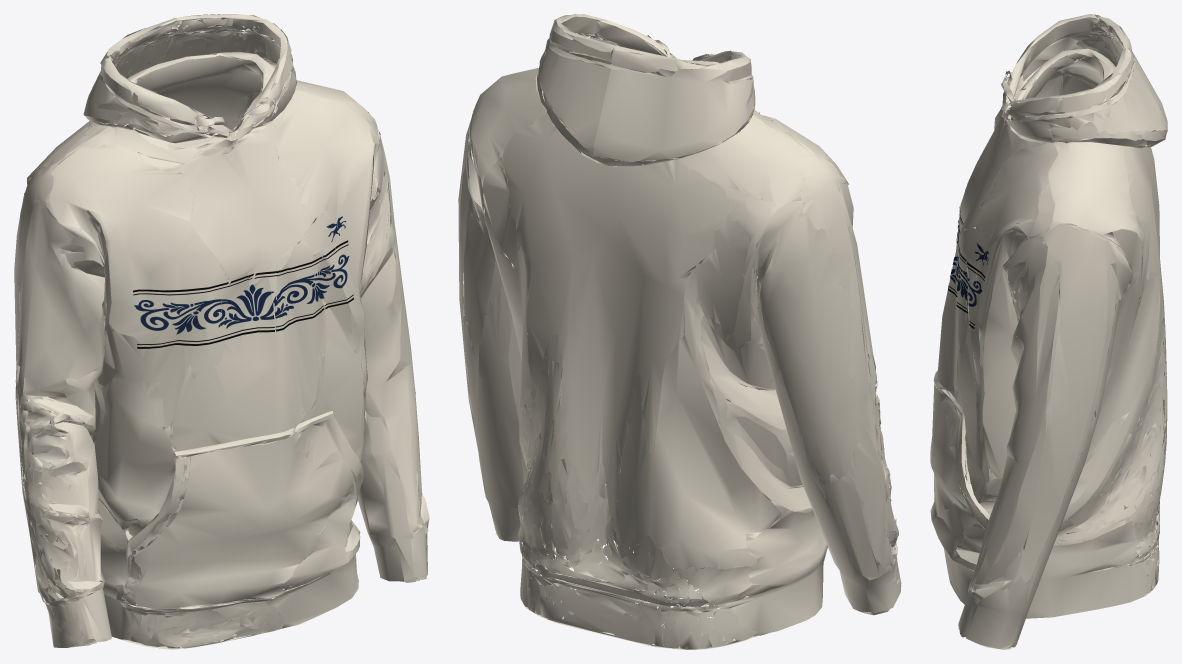
Rendered from 08-cobalt-ornament-hoodie.glb.
The picture shows the model from 3 angles, left to right: view 1: azimuth 30°, elevation 25°; view 2: azimuth 150°, elevation 25°; view 3: azimuth 270°, elevation 25°; orthographic projection. The views are drawn at different scales.
Parts seen in each view (by area): view 1: IPU_IFLII__web_hoodie, IPU / conforming front print; view 2: IPU_IFLII__web_hoodie; view 3: IPU_IFLII__web_hoodie, IPU / conforming front print.
Part boxes in pixels (left/top/right/bottom): IPU_IFLII__web_hoodie: left=14, top=14, right=429, bottom=649; IPU / conforming front print: left=133, top=216, right=353, bottom=348; IPU_IFLII__web_hoodie: left=458, top=14, right=901, bottom=649; IPU_IFLII__web_hoodie: left=930, top=14, right=1167, bottom=649; IPU / conforming front print: left=948, top=207, right=988, bottom=328.
Size of the model in its own units: 0.728 by 0.9785 by 0.4044.
Materials: 2 (1 with a texture image).
